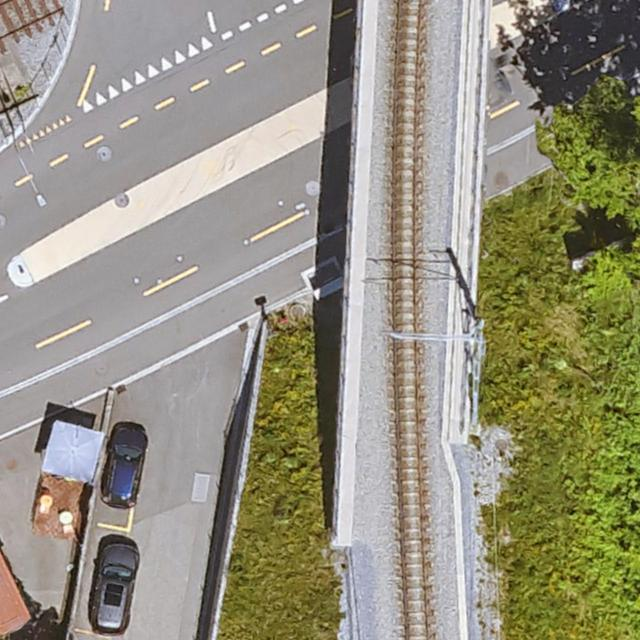tree: (539, 79, 640, 220)
